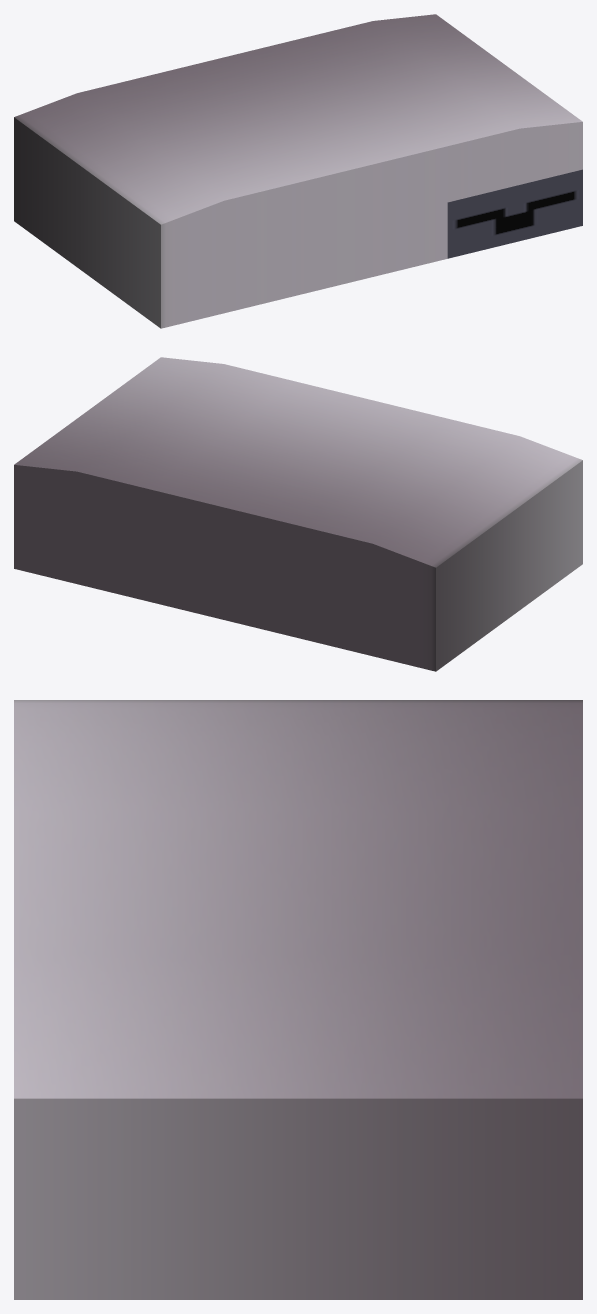
The model's file is Cpu.obj.
The picture shows the model from 3 angles, top to bottom: view 1: azimuth 30°, elevation 25°; view 2: azimuth 150°, elevation 25°; view 3: azimuth 270°, elevation 25°; orthographic projection. The views are drawn at different scales.
Parts seen in each view (by area): view 1: Cpu; view 2: Cpu; view 3: Cpu.
Boxes of the visible parts, x1,y1,x2,y2 form: Cpu: (14,14,582,328); Cpu: (14,357,582,671); Cpu: (14,700,582,1299).
Size of the model in its own units: 34.54 by 8.8 by 20.84.
Materials: 1 (1 with a texture image).
